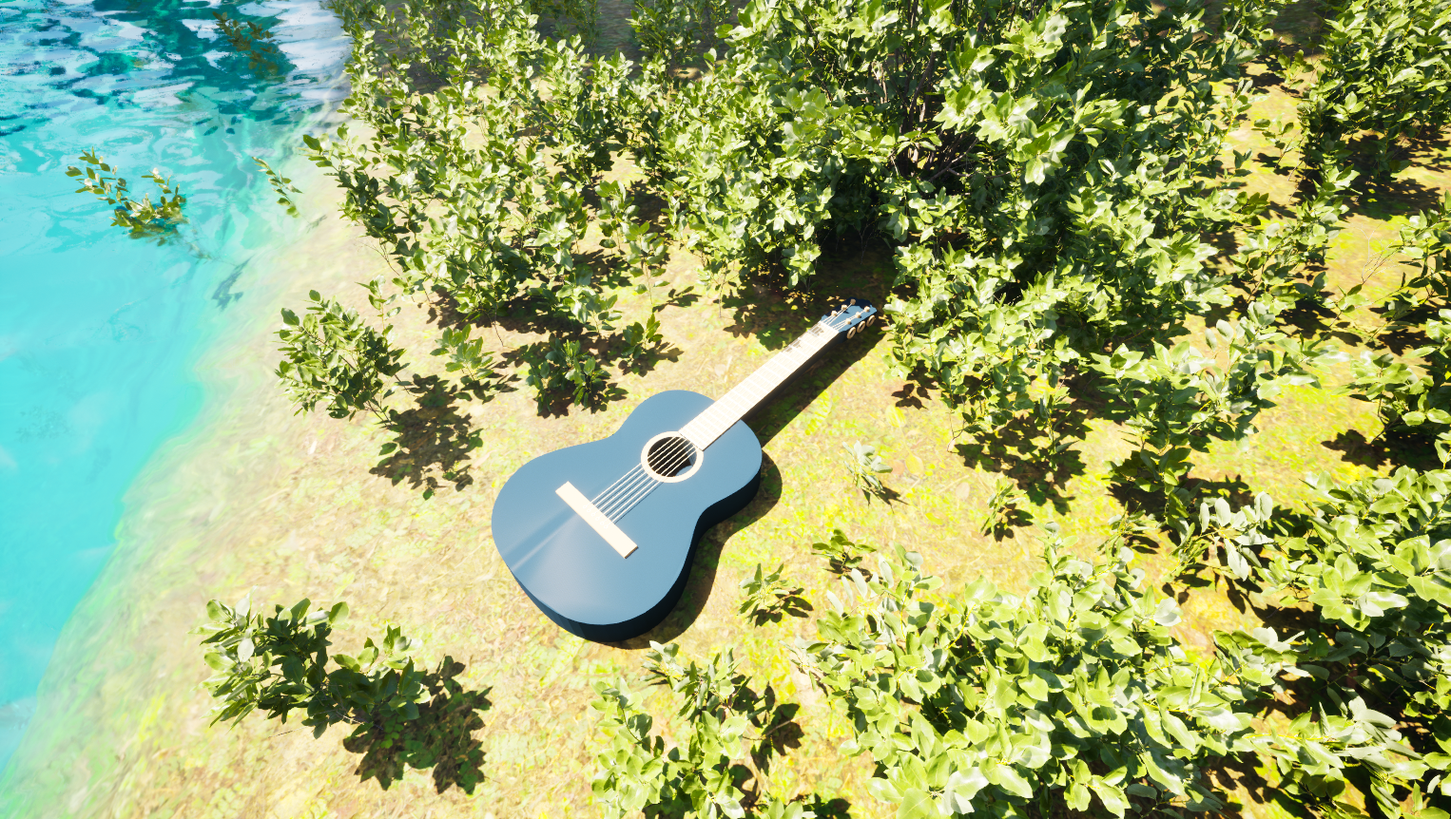Guitar: (457, 257, 939, 680)
